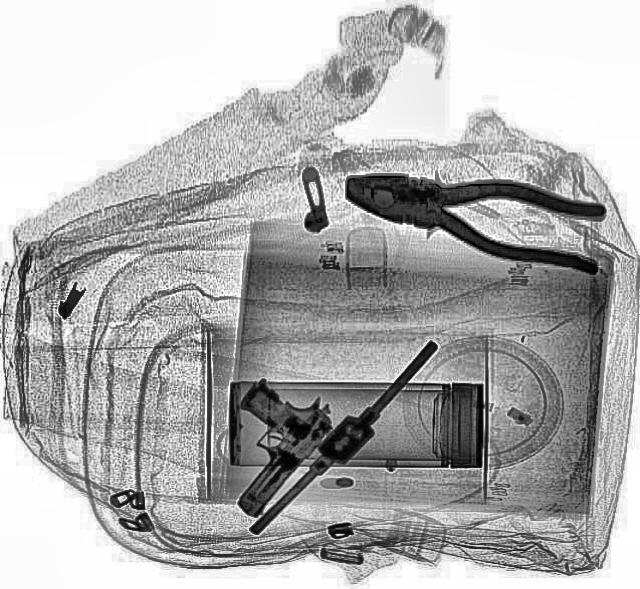Gun: (179, 364, 347, 522)
Pliers: (332, 153, 614, 274)
